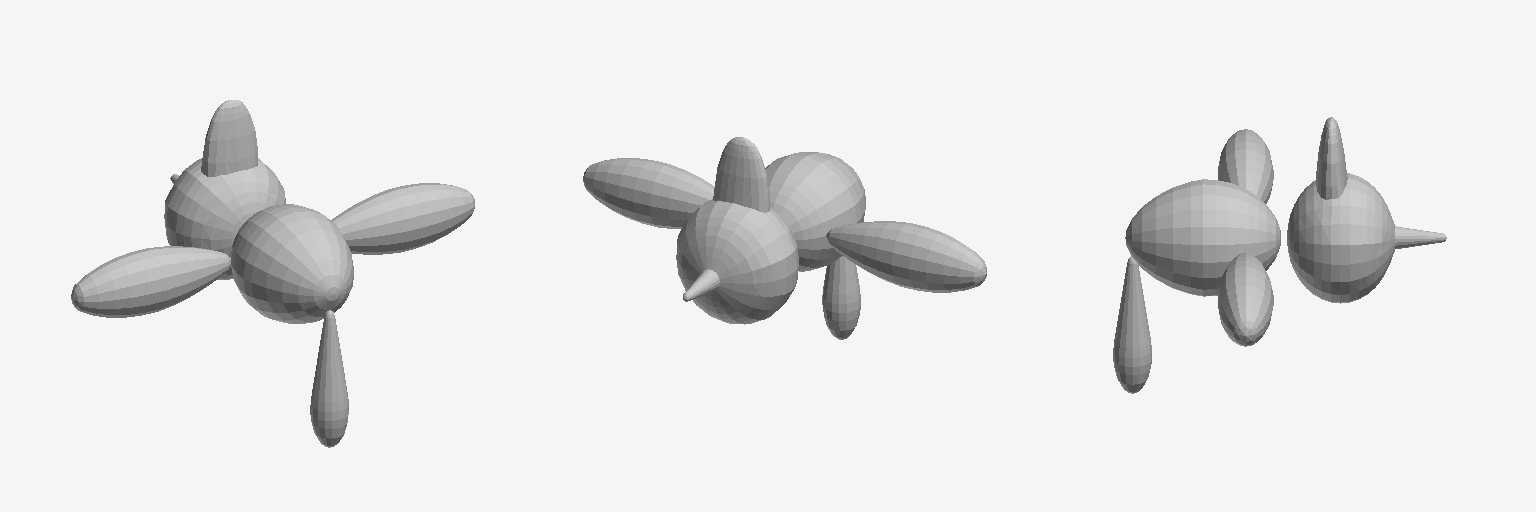
The model's file is BR_Porygon-Shiny02.obj.
3 renders of one model, left to right at view 1: azimuth 30°, elevation 25°; view 2: azimuth 150°, elevation 25°; view 3: azimuth 270°, elevation 25°, orthographic.
Parts seen in each view (by area): view 1: porygon_Z; view 2: porygon_Z; view 3: porygon_Z.
Boxes of the visible parts, x1=… form: porygon_Z: x1=71, y1=100, x2=474, y2=447; porygon_Z: x1=583, y1=137, x2=986, y2=339; porygon_Z: x1=1113, y1=117, x2=1446, y2=393.
Size of the model in its own units: 10.32 by 6.76 by 7.42.